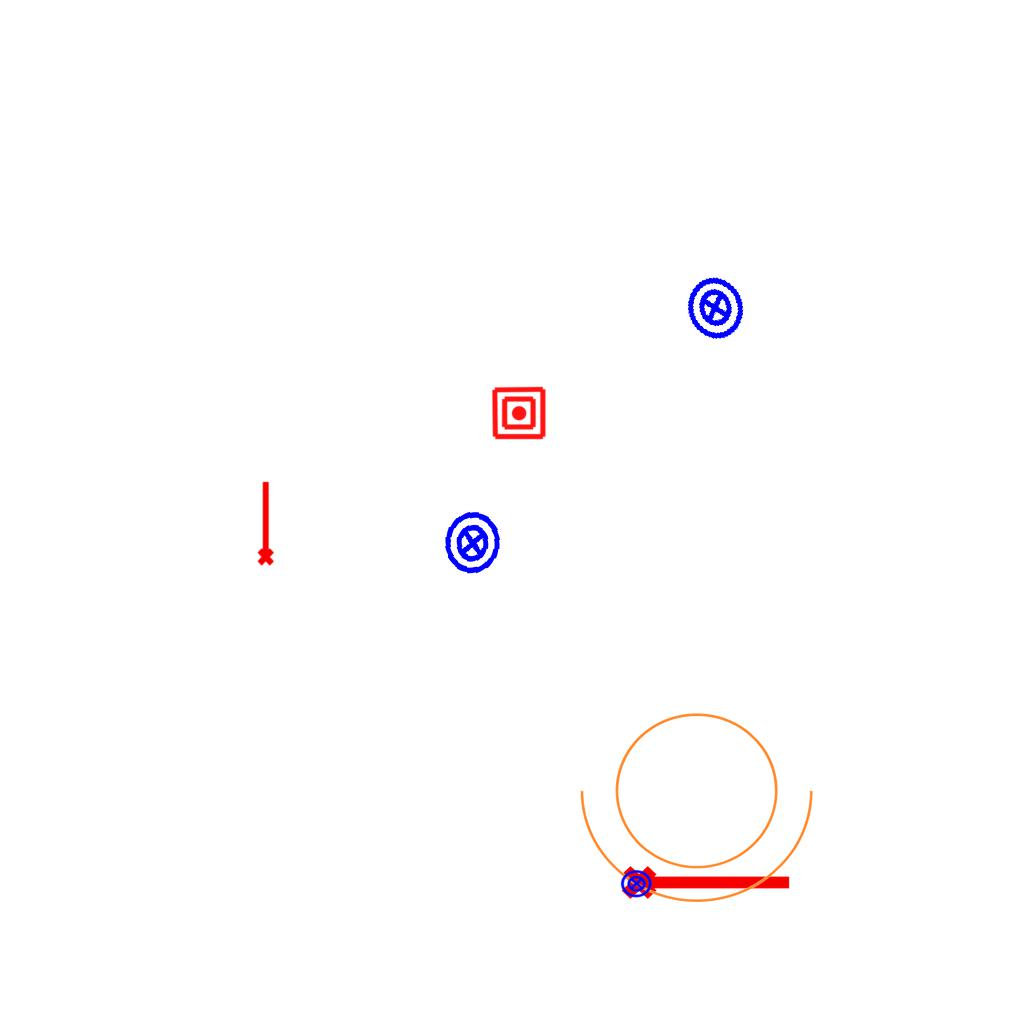ASR_Ansaugoeffnung: (619, 857, 795, 903), (253, 479, 276, 567)
NAM-Nichtautomatischer_Melder: (491, 385, 547, 441)
Scheinwerfer_fuer_Alarmbeleuchtung: (571, 688, 835, 913)
Taster_beleuchtet: (674, 267, 756, 349), (436, 506, 510, 580), (620, 867, 653, 900)
